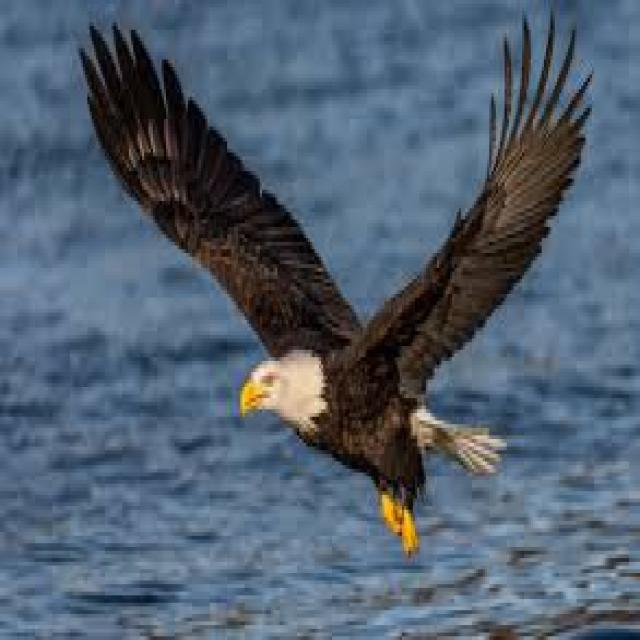Eagle: (82, 15, 589, 552)
